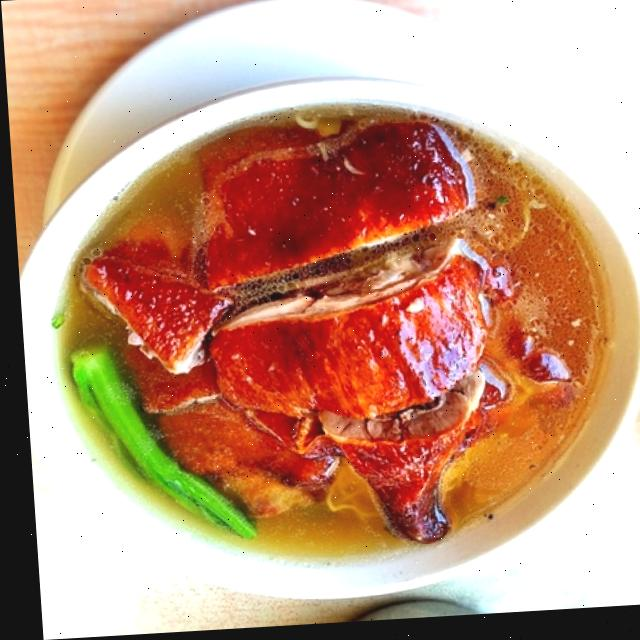烧串烤肉: (2, 3, 640, 634)
